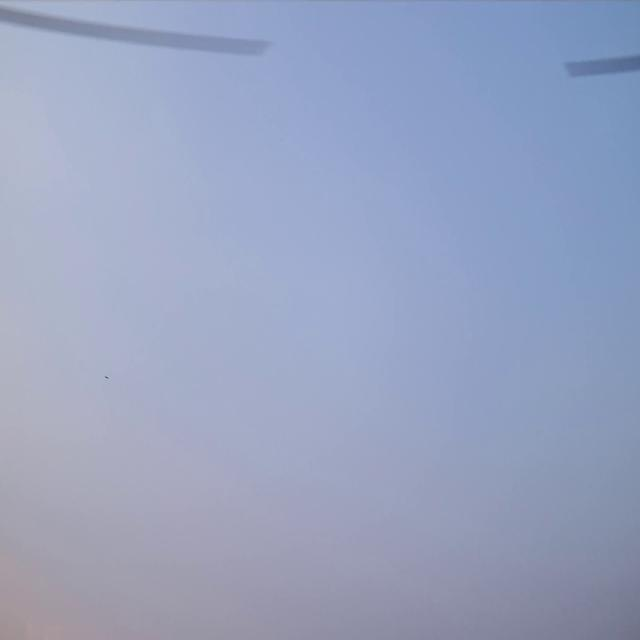UAV: (105, 376, 109, 380)
